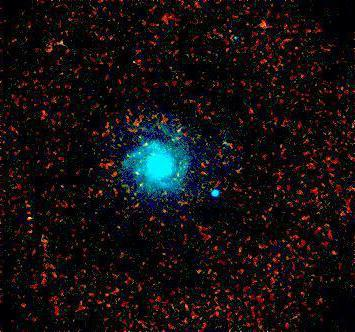star: (249, 8, 279, 38)
